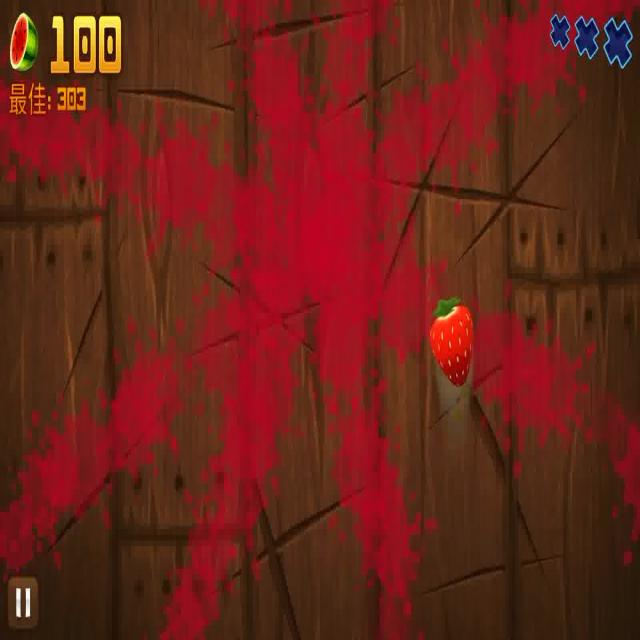fruit: (429, 296, 477, 391)
